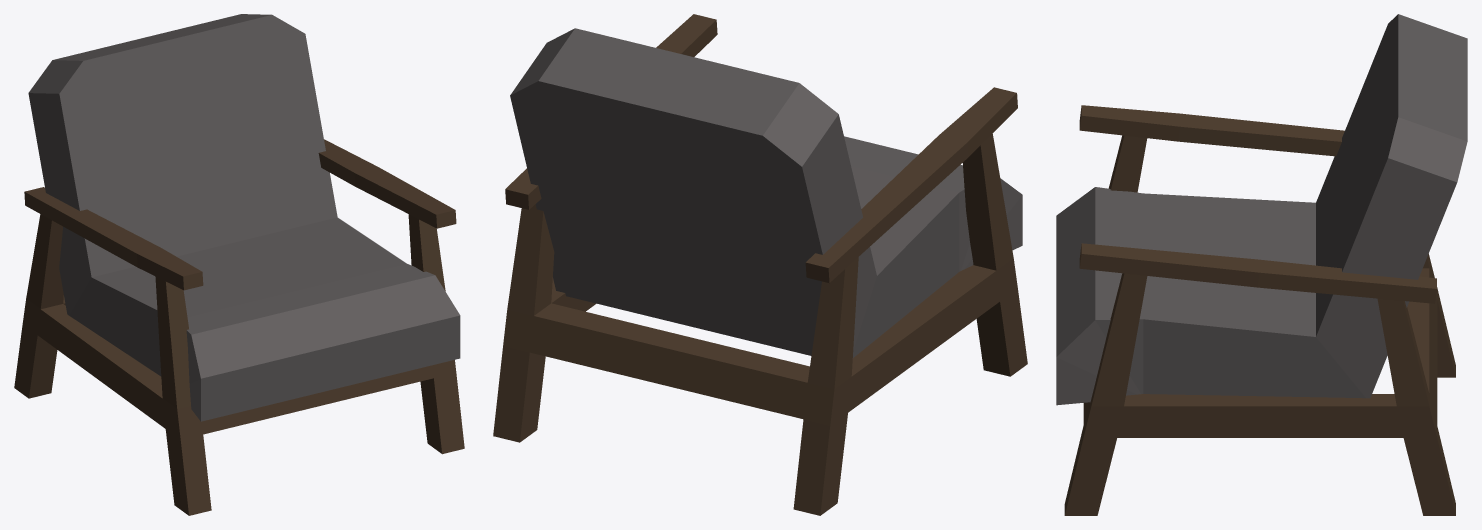
Rendered from chair-easy.fbx.
3 views of the same model, side by side, from view 1: azimuth 30°, elevation 25°; view 2: azimuth 150°, elevation 25°; view 3: azimuth 270°, elevation 25° (orthographic). The views are drawn at different scales.
Visible parts, largest first — view 1: chair-easy; view 2: chair-easy; view 3: chair-easy.
Part boxes in pixels (x1,y1,x2,y2): chair-easy: [14, 14, 464, 515]; chair-easy: [493, 14, 1027, 515]; chair-easy: [1056, 14, 1467, 515].
Bounding box in the file's own units: 0.6837 × 0.7905 × 0.7851.
